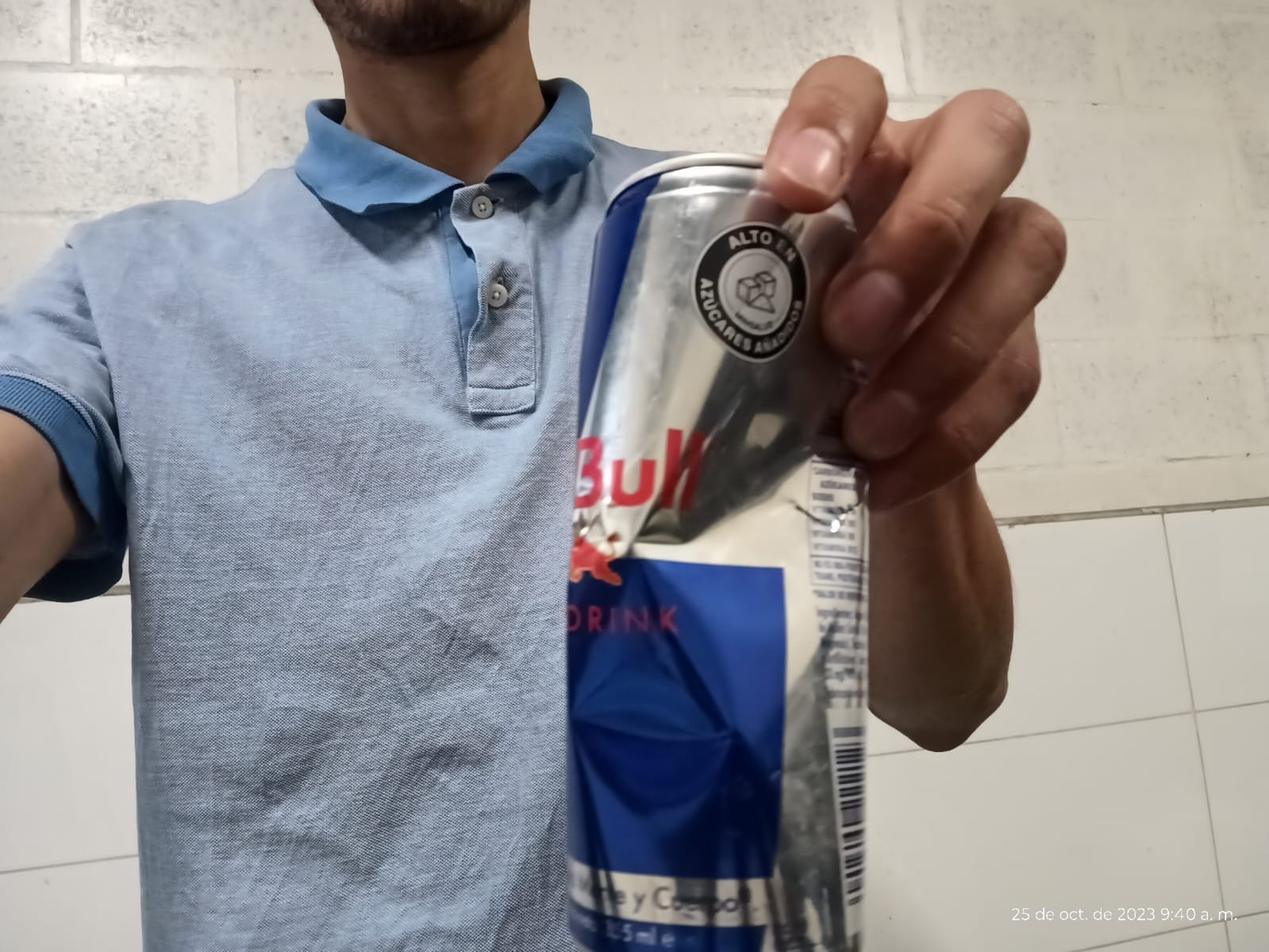Metal: (567, 153, 870, 952)
